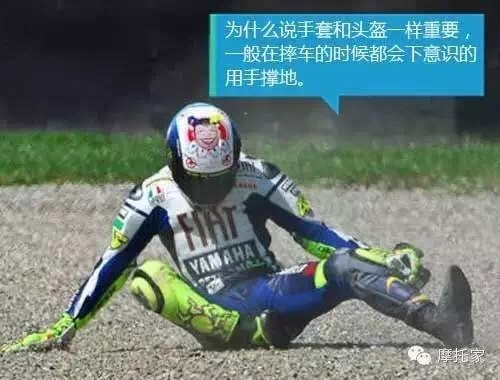falling: (2, 99, 500, 354)
